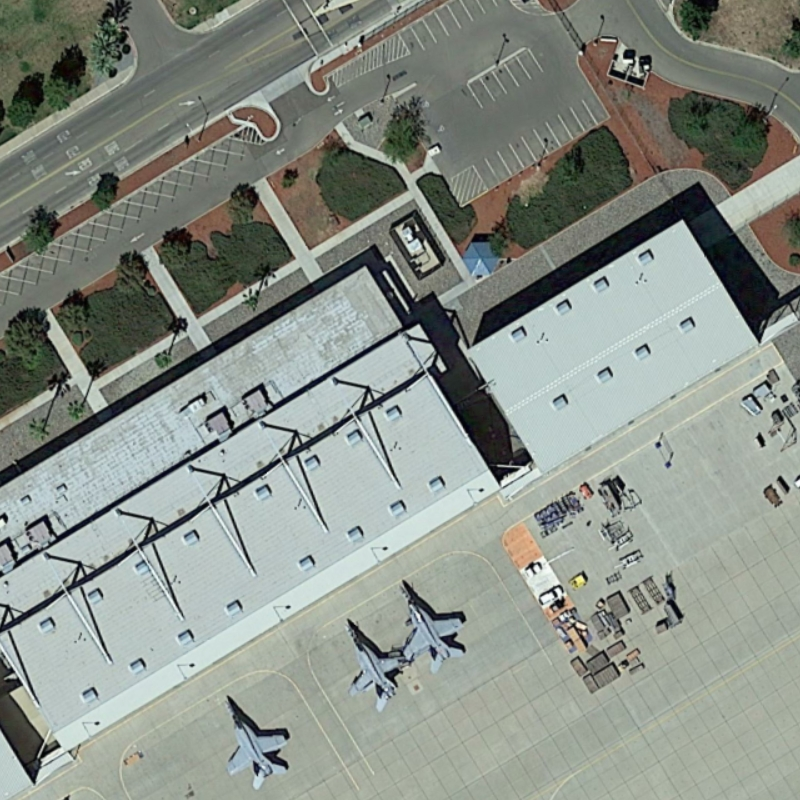A16: (394, 575, 474, 680), (218, 688, 292, 793), (338, 615, 407, 713)
